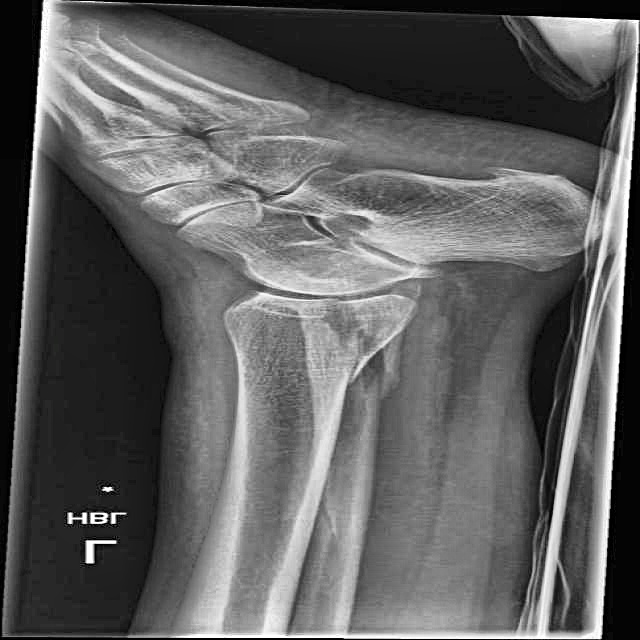Oblique Displaced: (310, 282, 434, 416)
